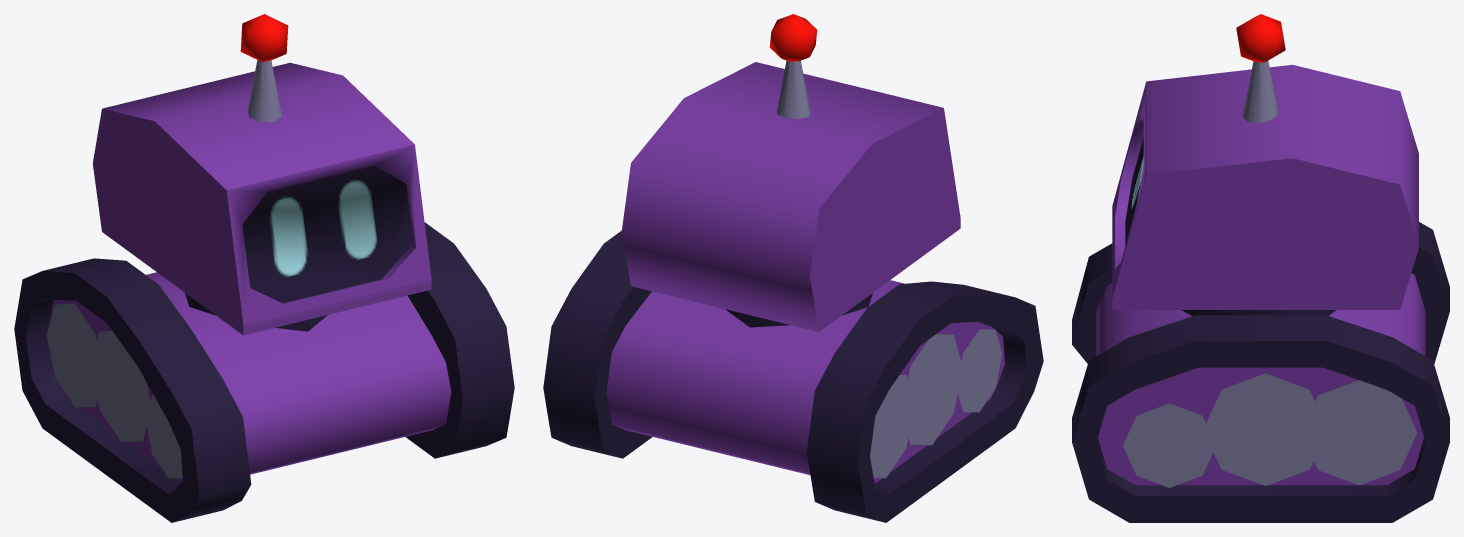
Rendered from Robot.fbx.
3 views of the same model, side by side, from view 1: azimuth 30°, elevation 25°; view 2: azimuth 150°, elevation 25°; view 3: azimuth 270°, elevation 25° (orthographic).
Parts seen in each view (by area): view 1: Cube.002, Cylinder.001, Cylinder.002, Circle, Icosphere, Cylinder.003; view 2: Cube.002, Cylinder.001, Cylinder.002, Circle, Icosphere, Cylinder.003, Cylinder; view 3: Cube.002, Cylinder.001, Circle, Cylinder.002, Icosphere, Cylinder.003, Cylinder.
Boxes of the visible parts, x1,y1,x2,y2 form: Cube.002: [92, 62, 431, 335]; Cylinder.001: [14, 222, 514, 522]; Cylinder.002: [146, 272, 451, 474]; Circle: [46, 304, 182, 478]; Icosphere: [240, 14, 288, 62]; Cylinder.003: [247, 60, 281, 121]; Cube.002: [621, 62, 960, 331]; Cylinder.001: [543, 230, 1043, 522]; Cylinder.002: [606, 280, 904, 474]; Circle: [870, 329, 1002, 478]; Icosphere: [769, 14, 817, 61]; Cylinder.003: [776, 60, 810, 118]; Cylinder: [725, 293, 872, 327]; Cube.002: [1112, 64, 1418, 309]; Cylinder.001: [1072, 222, 1449, 522]; Circle: [1123, 373, 1417, 487]; Cylinder.002: [1096, 273, 1425, 355]; Icosphere: [1236, 14, 1285, 62]; Cylinder.003: [1242, 61, 1278, 122]; Cylinder: [1182, 310, 1336, 316].
Bounding box in the file's own units: 419 × 538 × 427.
Materials: 1 (1 with a texture image).
